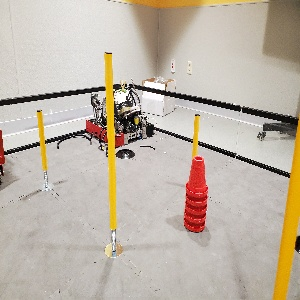Red_5: (181, 157, 210, 231)
